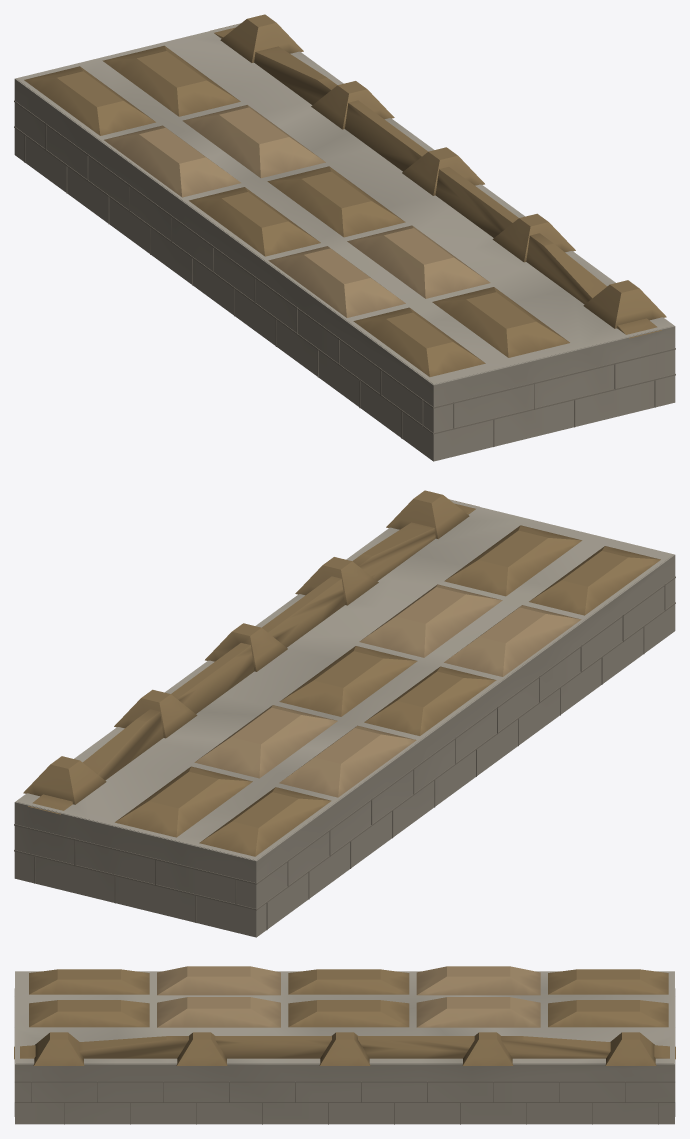
File: garrison-ruin.glb
The picture shows the model from 3 angles, top to bottom: view 1: azimuth 30°, elevation 25°; view 2: azimuth 150°, elevation 25°; view 3: azimuth 270°, elevation 25°; orthographic projection. The views are drawn at different scales.
Parts seen in each view (by area): view 1: p0_terrace, p1_walls; view 2: p0_terrace, p1_walls; view 3: p0_terrace, p1_walls.
Part boxes in pixels (x1=…): p0_terrace: x1=14, y1=23, x2=675, y2=461; p1_walls: x1=24, y1=14, x2=666, y2=376; p0_terrace: x1=14, y1=499, x2=675, y2=937; p1_walls: x1=23, y1=490, x2=660, y2=856; p0_terrace: x1=14, y1=971, x2=675, y2=1124; p1_walls: x1=14, y1=966, x2=675, y2=1065.
Bounding box in the file's own units: 40.68 × 16 × 120.
